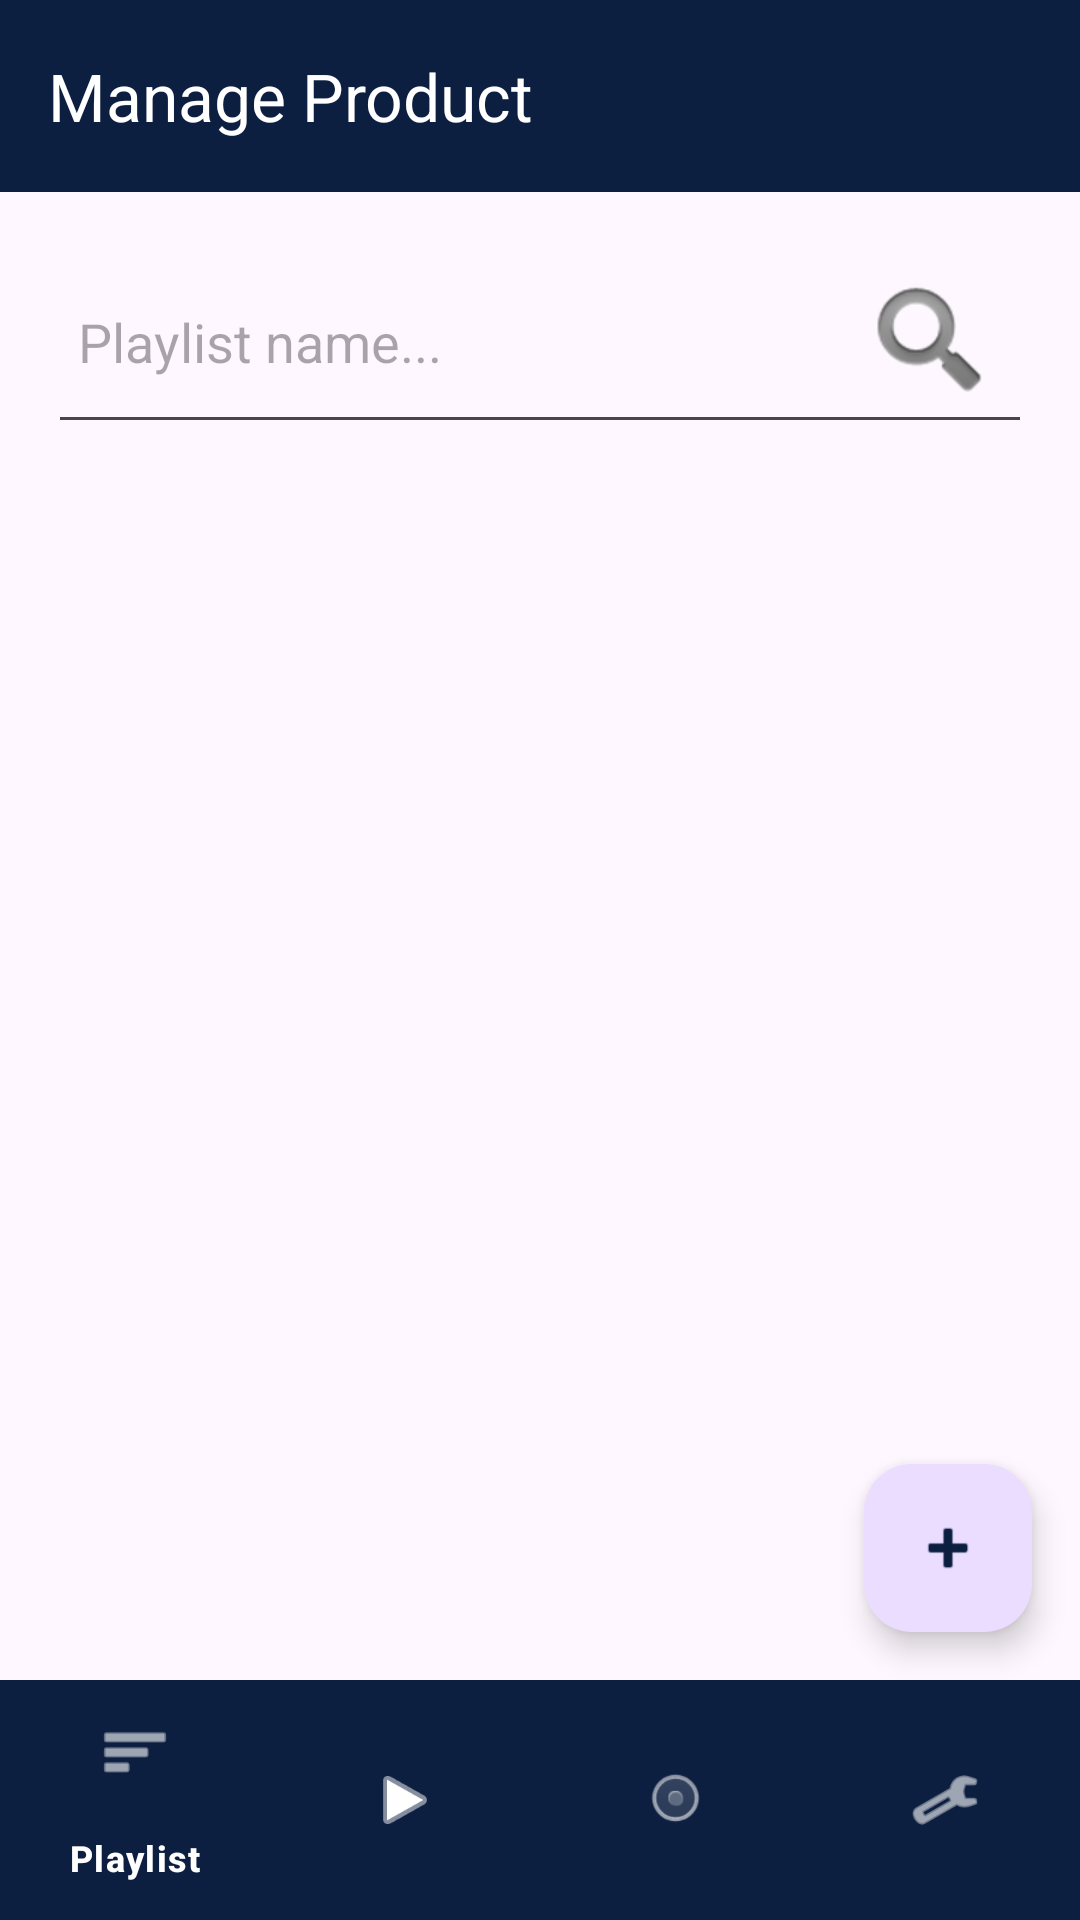

Icons on this 1080*1920 Android screen, each with the point to tap as (x,y):
add: (948,1548)
